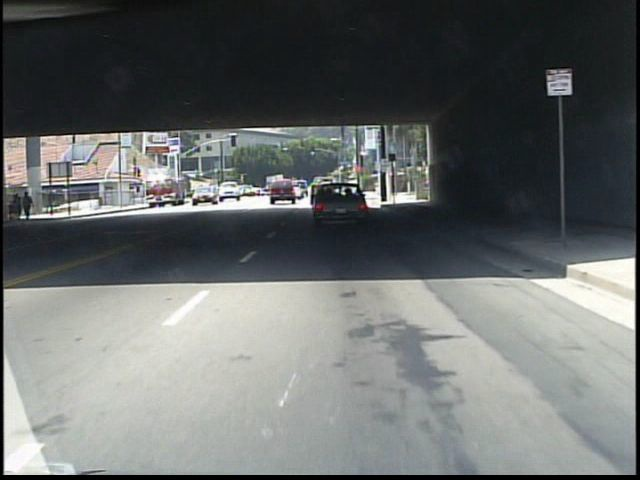person: (12, 195, 25, 224), (25, 193, 37, 223)
